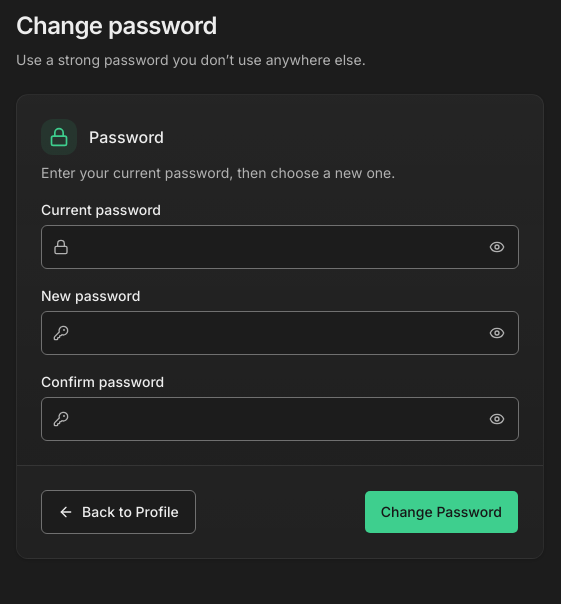
Test case: ChangePassword › shows a 422 on the field it names and keeps what was typed
Type "Old!Passw0rd" into the password field labelled "Current password".
click(280, 247); type("Old!Passw0rd")  # box [41,225,519,269]
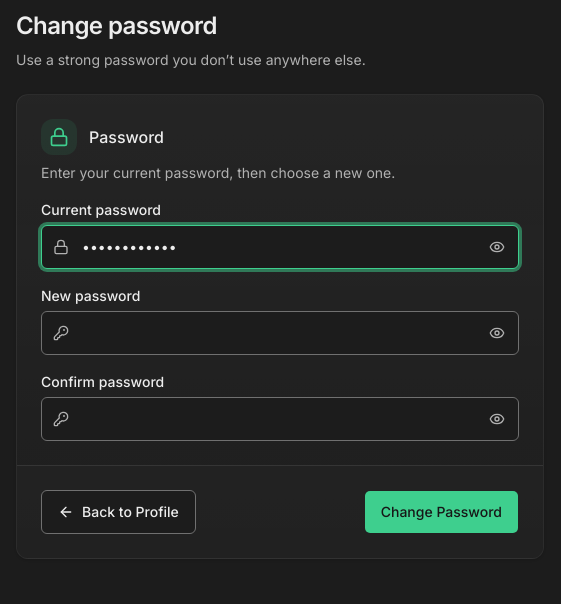
Type "New!Passw0rd#1" into the password field labelled "New password".
click(280, 333); type("New!Passw0rd#1")  # box [41,311,519,355]
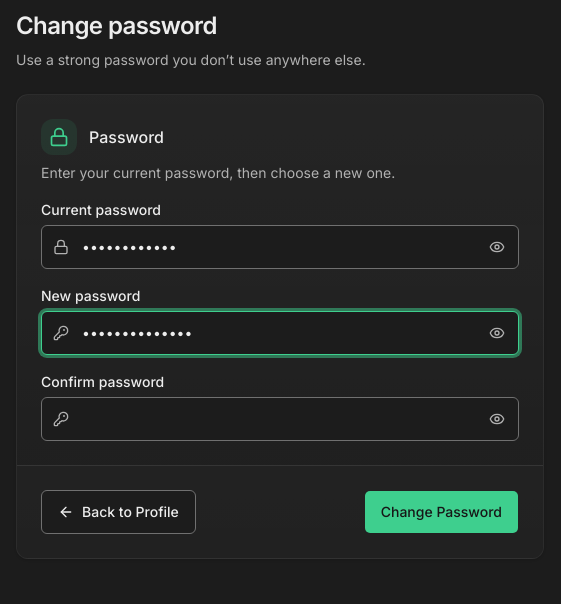
Type "New!Passw0rd#1" into the password field labelled "Confirm password".
click(280, 419); type("New!Passw0rd#1")  # box [41,397,519,441]
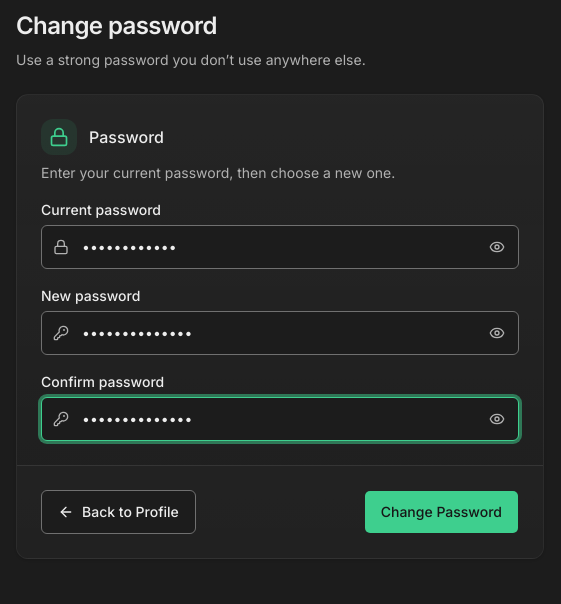
Click the button "Change Password".
click(441, 512)  # box [364,490,519,534]
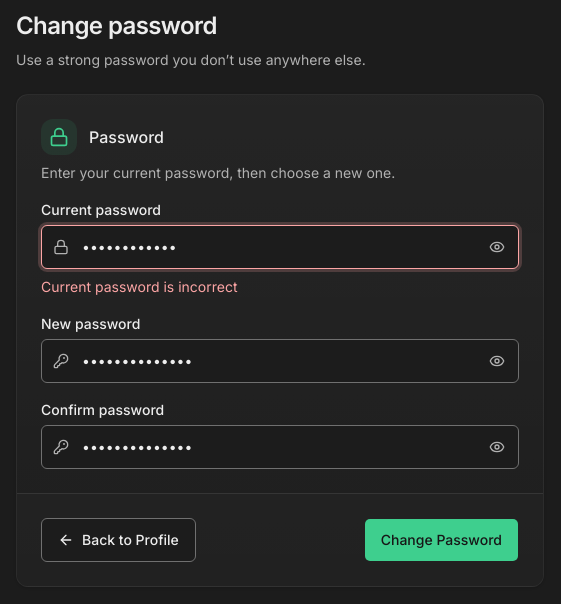
Expected: the text "Current password is incorrect" is shown, [41,278,238,295]
